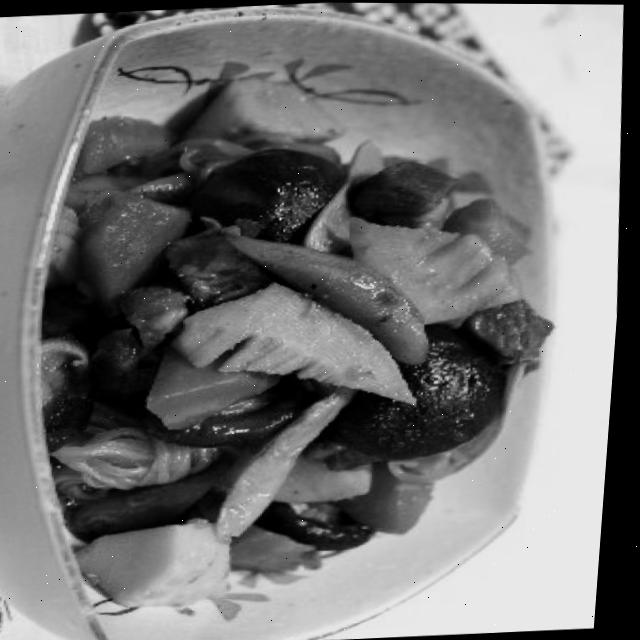鸡肉料理 含炸鸡: (12, 44, 587, 635)
